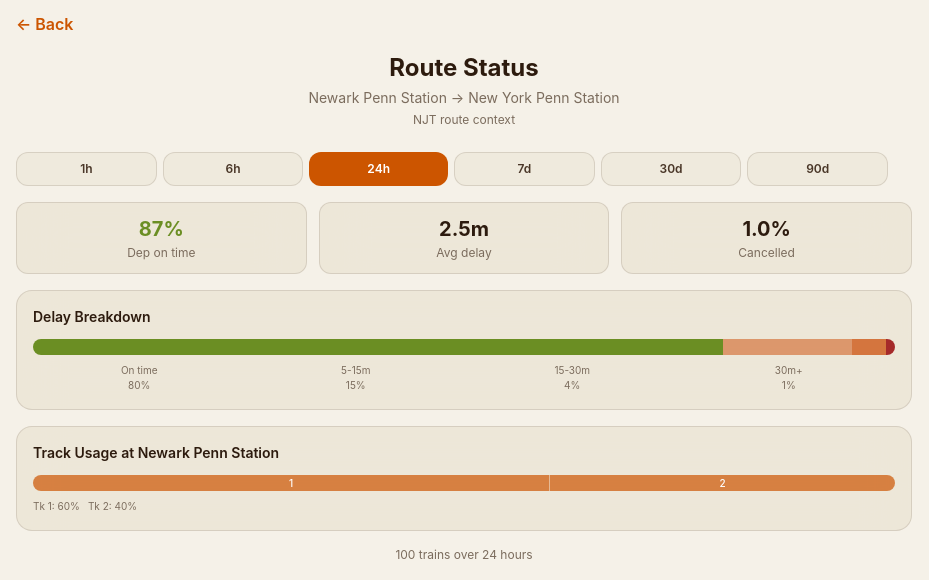
Test: RouteStatusPage › keeps prior stats mounted (dimmed) while a period change is in flight
expect the text "87%" is shown: met, box x1=139 y1=217 x2=184 y2=241
Step 1. Click the button "7d" → (524, 169), box x1=454 y1=152 x2=595 y2=186
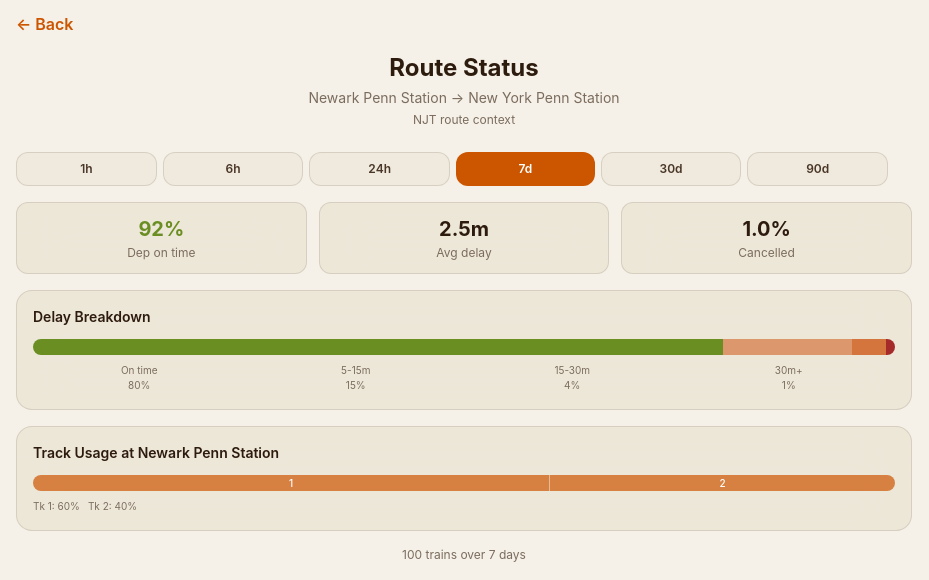
expect the text "92%" is shown: met, box x1=138 y1=217 x2=184 y2=241
